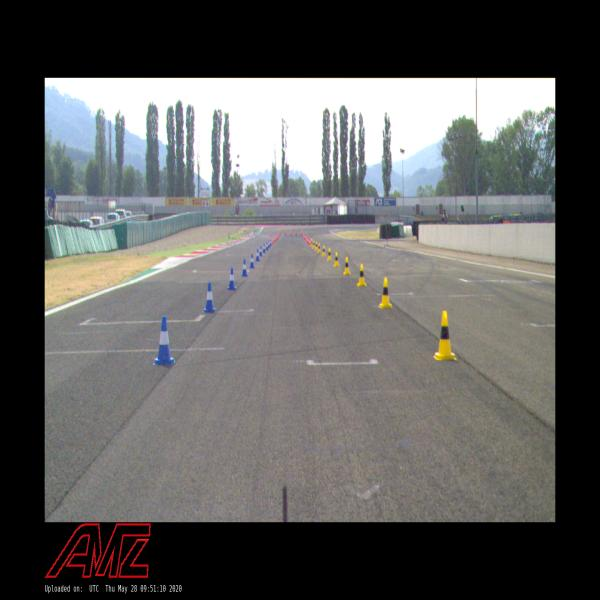blue_cone: (152, 316, 176, 366), (203, 282, 217, 313), (228, 268, 238, 290), (241, 258, 248, 277), (249, 254, 255, 268), (255, 249, 260, 262), (259, 246, 263, 257), (262, 244, 266, 254), (265, 241, 269, 250)
yellow_cone: (433, 310, 457, 362), (378, 278, 393, 310), (357, 263, 367, 288), (343, 256, 351, 276), (333, 252, 340, 267), (326, 247, 332, 262), (322, 245, 326, 257), (314, 241, 318, 251), (318, 243, 321, 254)
